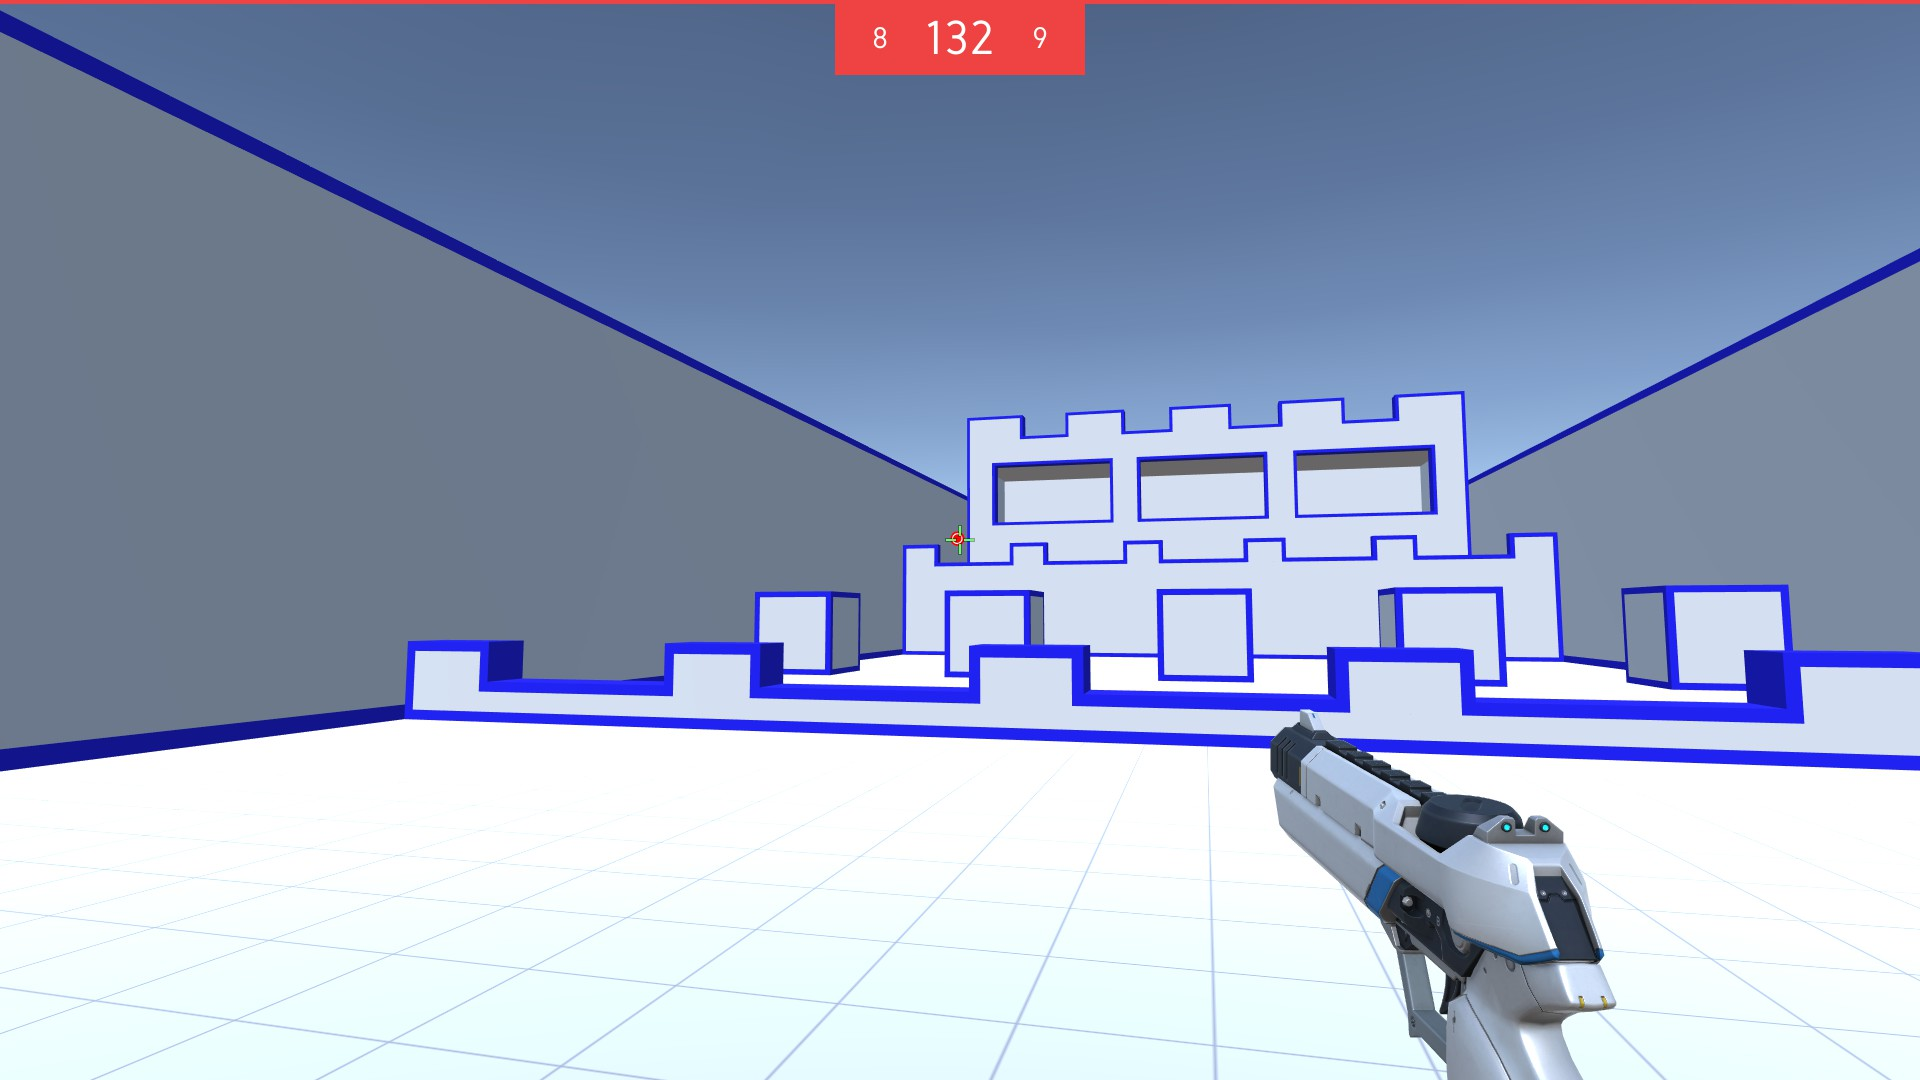target: (949, 530, 964, 545)
